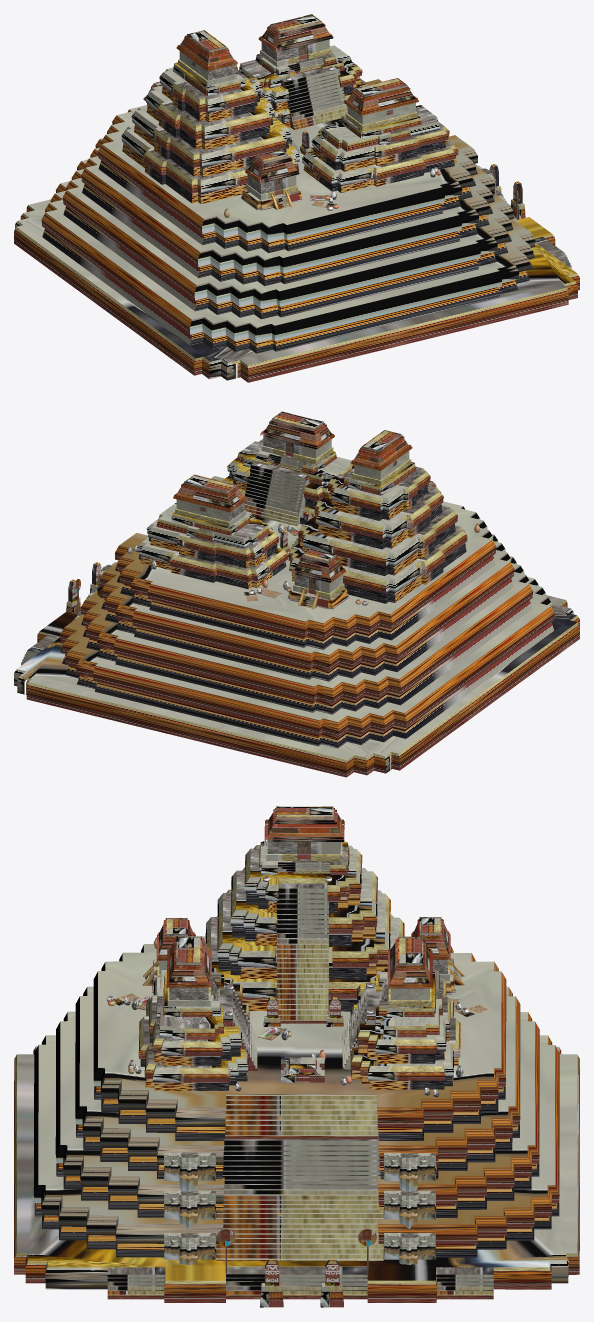
File: ladanta.dae
3 views of the same model, one above another, from view 1: azimuth 30°, elevation 25°; view 2: azimuth 150°, elevation 25°; view 3: azimuth 270°, elevation 25° (orthographic). The views are drawn at different scales.
Parts seen in each view (by area): view 1: templo pri; view 2: templo pri; view 3: templo pri.
Boxes of the visible parts, x1,y1,x2,y2 form: templo pri: [14, 14, 579, 382]; templo pri: [14, 411, 579, 777]; templo pri: [14, 806, 579, 1307].
Size of the model in its own units: 69.37 by 65.44 by 39.35.
